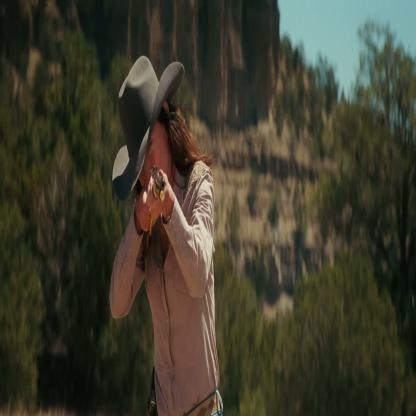gun: (147, 157, 170, 222)
